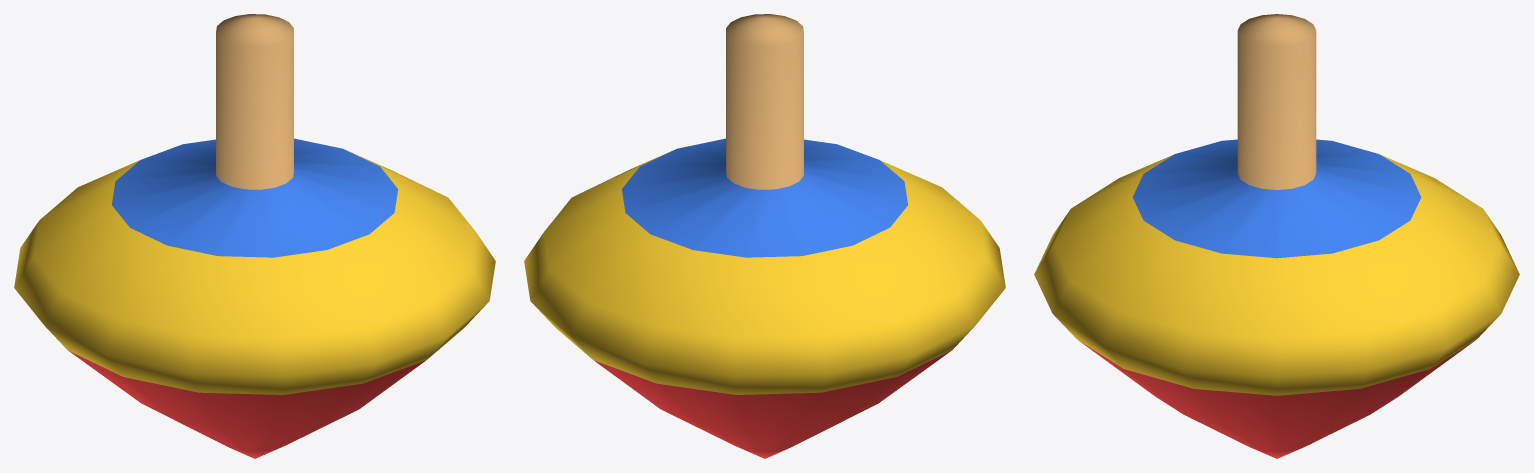
Rendered from Top.fbx.
3 views of the same model, side by side, from view 1: azimuth 30°, elevation 25°; view 2: azimuth 150°, elevation 25°; view 3: azimuth 270°, elevation 25° (orthographic).
Parts seen in each view (by area): view 1: Top; view 2: Top; view 3: Top.
Part boxes in pixels (x1=…): Top: x1=14, y1=14, x2=495, y2=458; Top: x1=524, y1=14, x2=1005, y2=458; Top: x1=1034, y1=14, x2=1519, y2=458.
Bounding box in the file's own units: 0.074 × 0.074 × 0.074.
